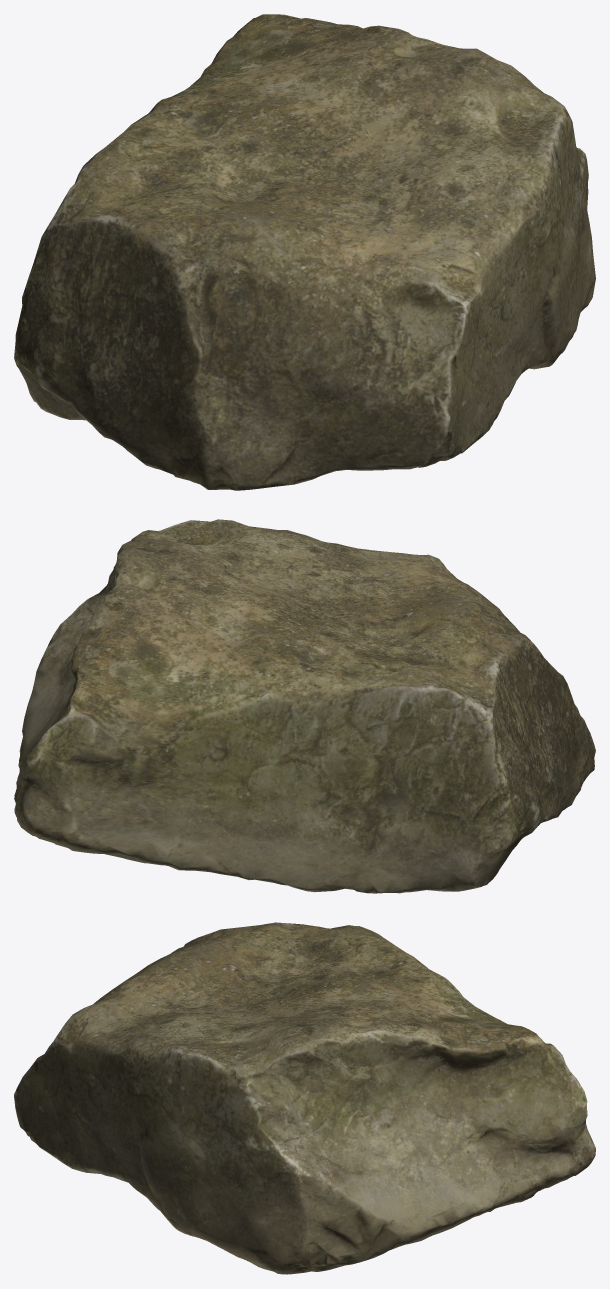
The model's file is moss-rock-08.glb.
The picture shows the model from 3 angles, top to bottom: view 1: azimuth 30°, elevation 25°; view 2: azimuth 150°, elevation 25°; view 3: azimuth 270°, elevation 25°; orthographic projection. The views are drawn at different scales.
Parts seen in each view (by area): view 1: Object_2; view 2: Object_2; view 3: Object_2.
Part boxes in pixels (box(x1,y1,x2,y2)): Object_2: box(14, 14, 595, 490); Object_2: box(14, 519, 595, 893); Object_2: box(14, 922, 595, 1274).
Bounding box in the file's own units: 2.29 × 1.09 × 2.55.
Materials: 1 (1 with a texture image).
